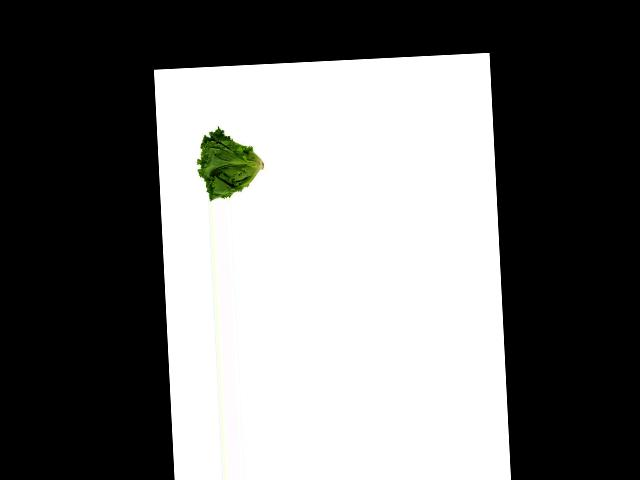lettuce: (192, 127, 267, 202)
